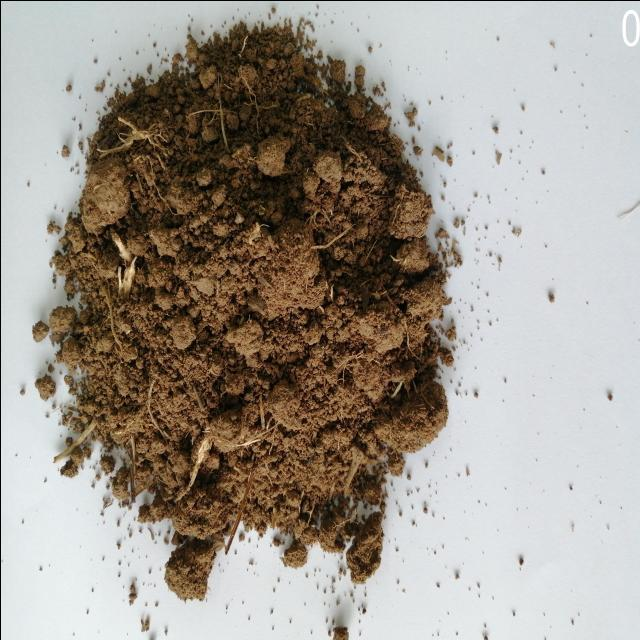soil: (124, 112, 366, 460)
